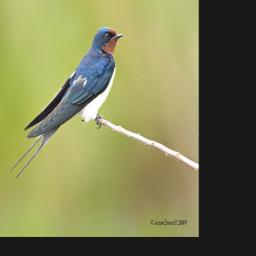Swallow: (9, 27, 124, 180)
